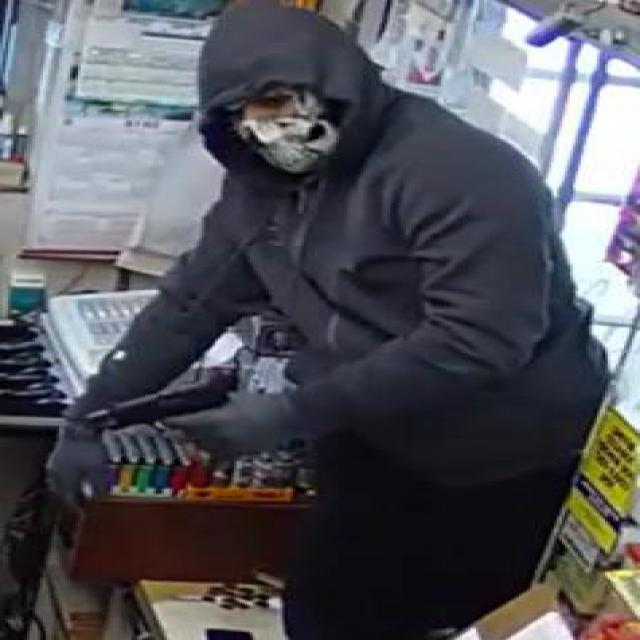Gun: (80, 370, 252, 456)
